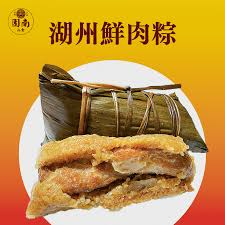zongzi: (39, 66, 206, 151), (26, 134, 194, 218)
